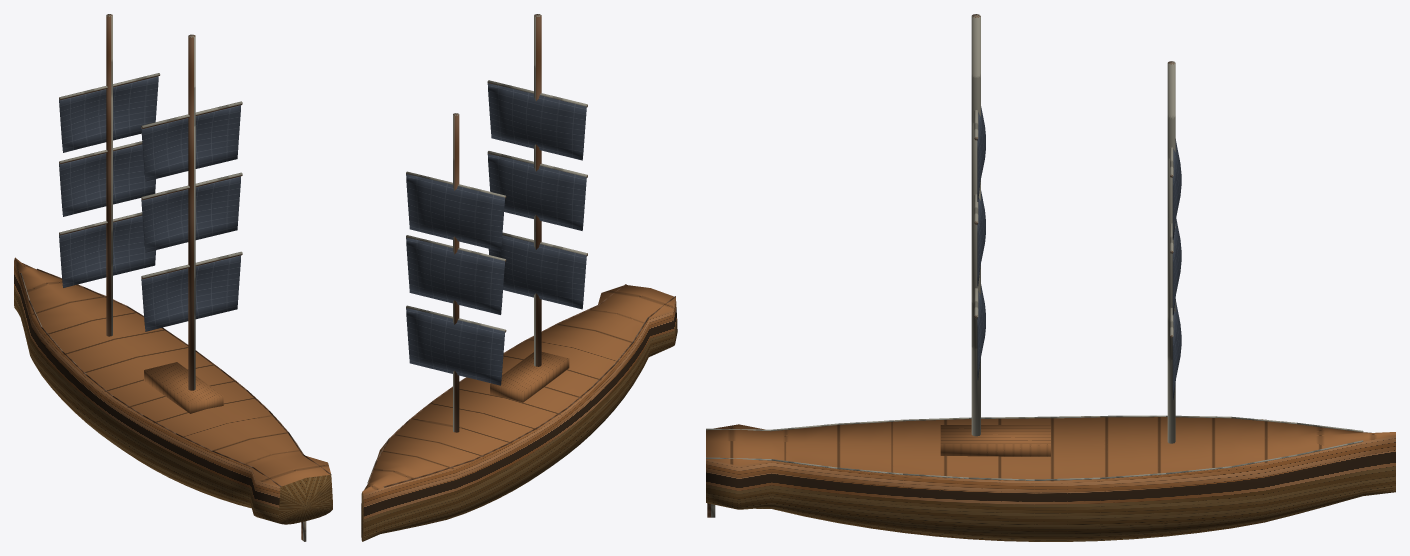
The model's file is SHIP-M_LOD0.fbx.
3 views of the same model, side by side, from view 1: azimuth 30°, elevation 25°; view 2: azimuth 150°, elevation 25°; view 3: azimuth 270°, elevation 25° (orthographic). The views are drawn at different scales.
Parts seen in each view (by area): view 1: Hull, Sails, Masts; view 2: Hull, Sails, Masts; view 3: Hull, Masts, Sails.
Part boxes in pixels (x1,y1,x2,y2): Hull: (14,257,332,524); Sails: (59,76,241,331); Masts: (20,14,331,541); Hull: (361,285,677,541); Sails: (406,83,586,385); Masts: (367,14,675,487); Hull: (706,417,1395,541); Masts: (706,14,1363,517); Sails: (977,106,1181,399).
Size of the model in its own units: 5.6 by 24 by 19.6.
3 materials, 3 textured.
